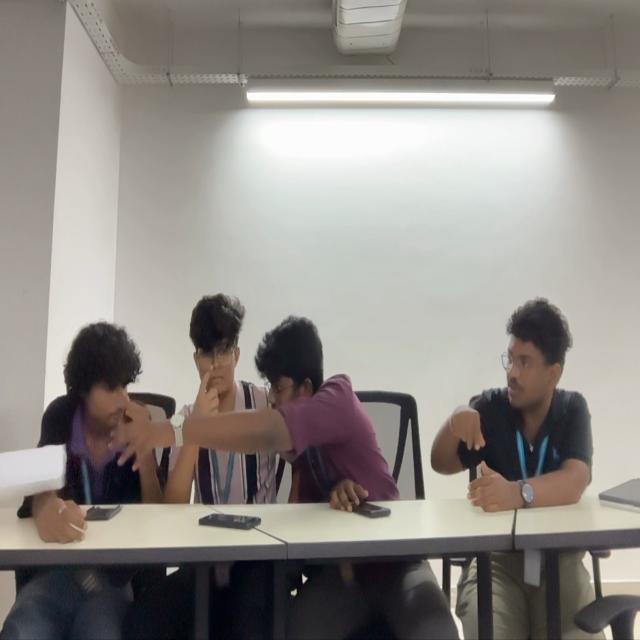Isolated: (431, 294, 590, 502)
socializing: (21, 294, 394, 514)
